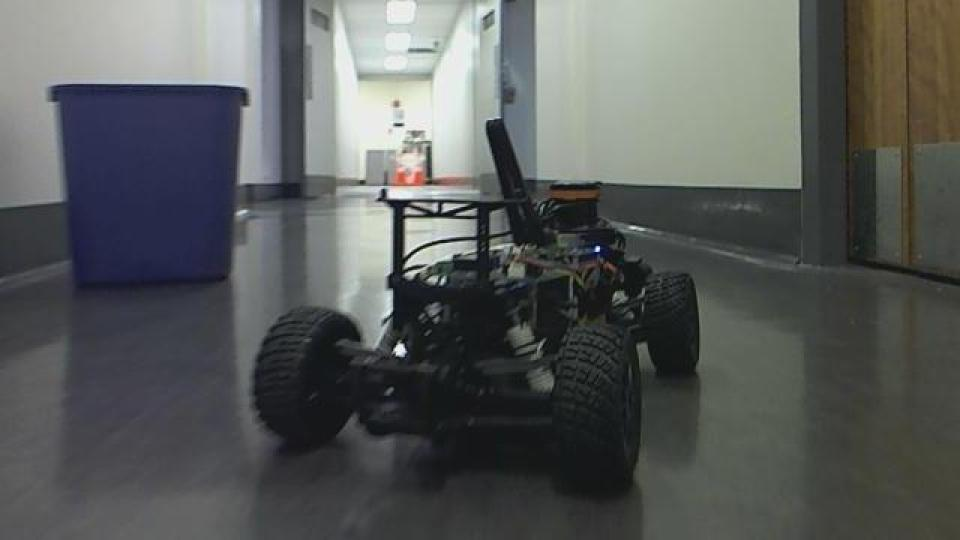car: (248, 116, 704, 494)
